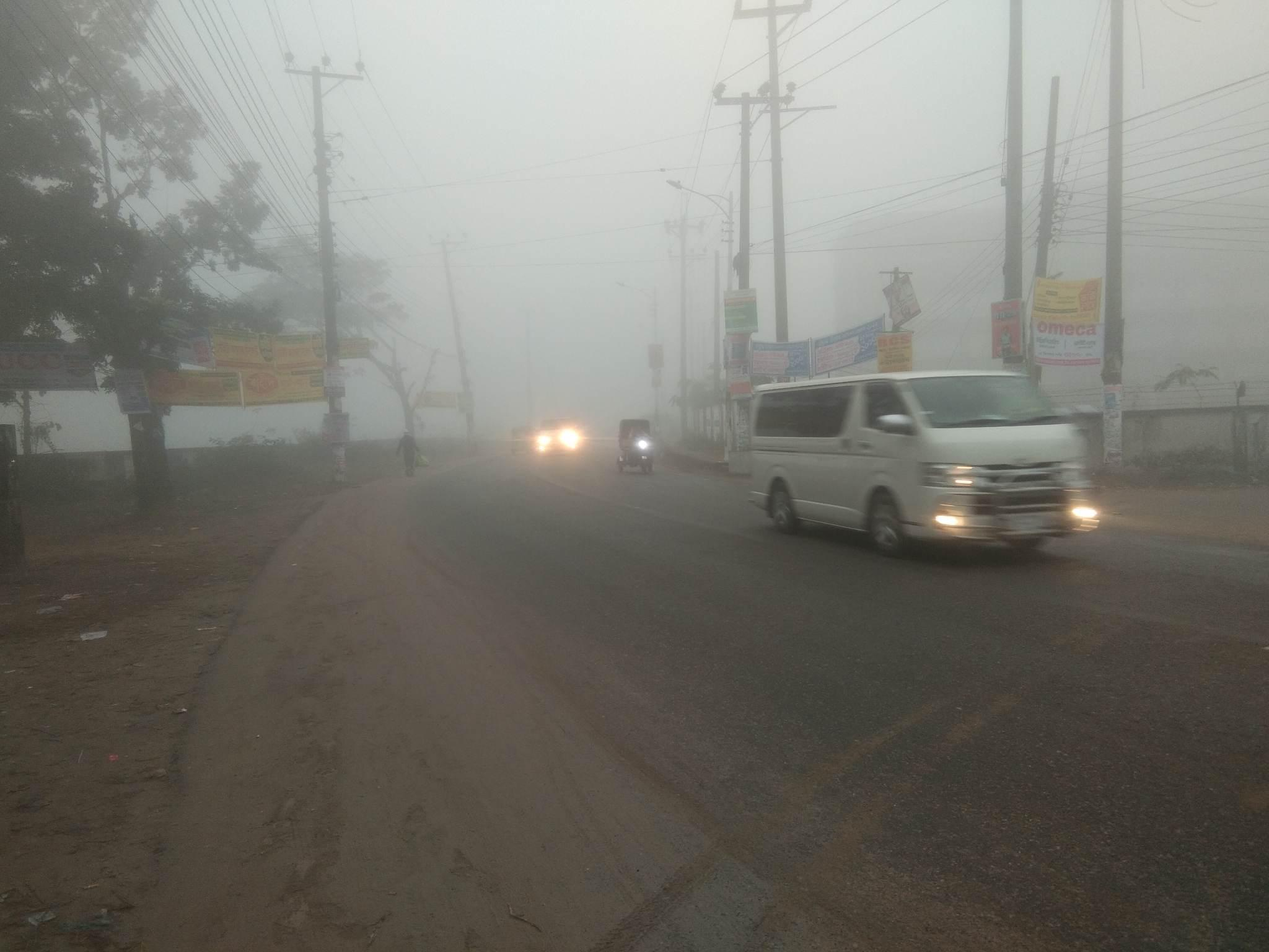Car: (722, 350, 1138, 586), (611, 412, 661, 475)
